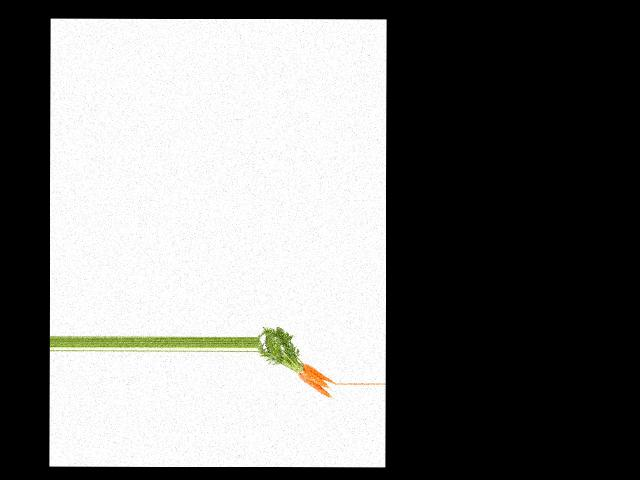carrot: (303, 362, 334, 384)
